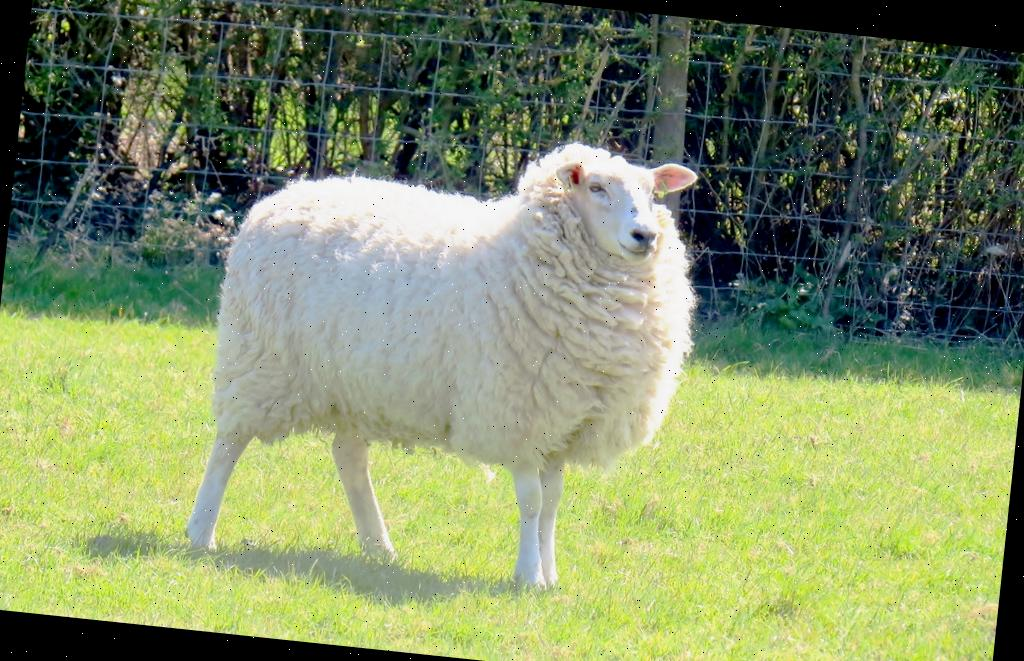Sheep: (170, 90, 704, 618)
